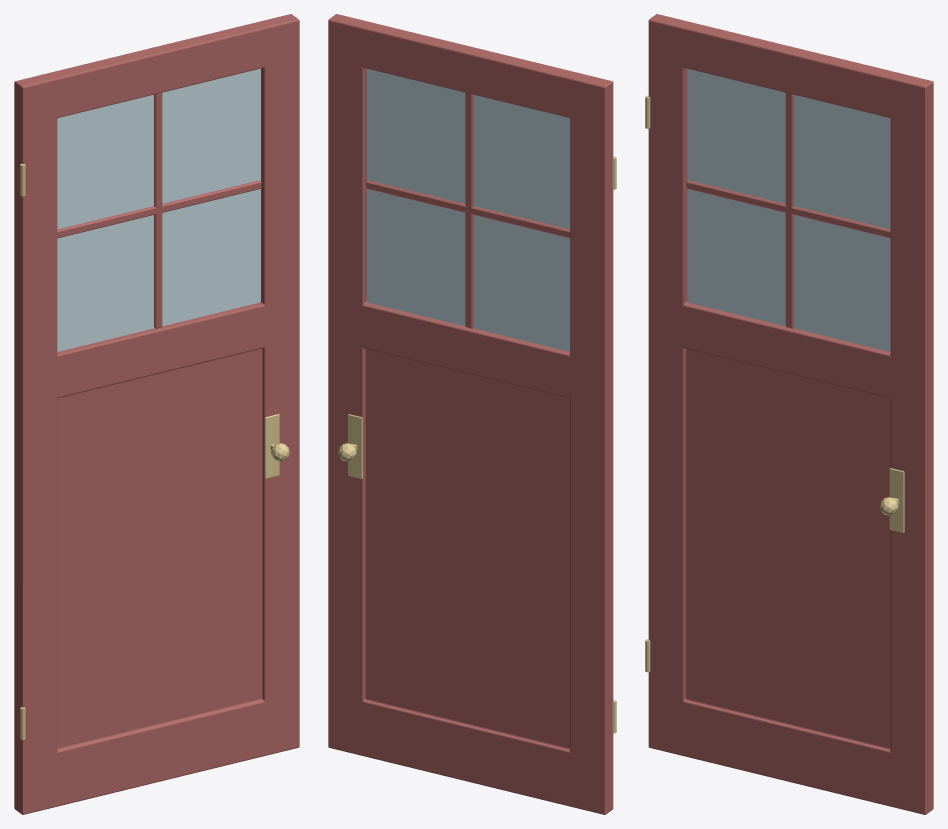
Rendered from door_leaf_shop.glb.
3 views of the same model, side by side, from view 1: azimuth 30°, elevation 25°; view 2: azimuth 150°, elevation 25°; view 3: azimuth 330°, elevation 25° (orthographic).
Visible parts, largest first — view 1: door_leaf_shop_door, door_leaf_shop_glass, door_leaf_shop_brass; view 2: door_leaf_shop_door, door_leaf_shop_glass, door_leaf_shop_brass; view 3: door_leaf_shop_door, door_leaf_shop_glass, door_leaf_shop_brass.
Boxes of the visible parts, bbox=[...] form: door_leaf_shop_door: bbox=[14, 14, 299, 814]; door_leaf_shop_glass: bbox=[57, 68, 260, 351]; door_leaf_shop_brass: bbox=[20, 163, 289, 739]; door_leaf_shop_door: bbox=[328, 14, 613, 814]; door_leaf_shop_glass: bbox=[367, 68, 570, 351]; door_leaf_shop_brass: bbox=[338, 156, 616, 733]; door_leaf_shop_door: bbox=[648, 14, 933, 814]; door_leaf_shop_glass: bbox=[687, 68, 890, 351]; door_leaf_shop_brass: bbox=[645, 95, 904, 672].
Size of the model in its own units: 0.948 by 2.36 by 0.206.
